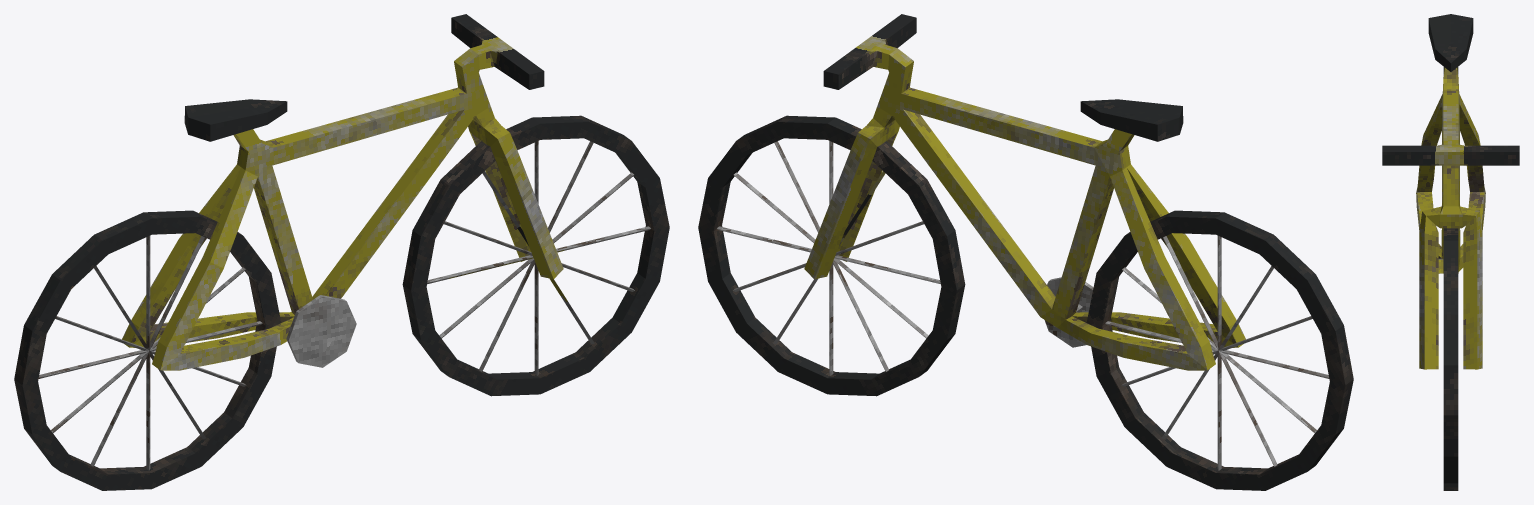
The model's file is Bike.glb.
3 renders of one model, left to right at view 1: azimuth 30°, elevation 25°; view 2: azimuth 150°, elevation 25°; view 3: azimuth 270°, elevation 25°, orthographic. The views are drawn at different scales.
Visible parts, largest first — view 1: Bike; view 2: Bike; view 3: Bike.
Part boxes in pixels (bbox=[...]): Bike: bbox=[14, 14, 669, 490]; Bike: bbox=[698, 14, 1353, 490]; Bike: bbox=[1382, 14, 1519, 490].
Size of the model in its own units: 7.2 by 3.81 by 1.5.
Materials: 2 (2 with a texture image).
